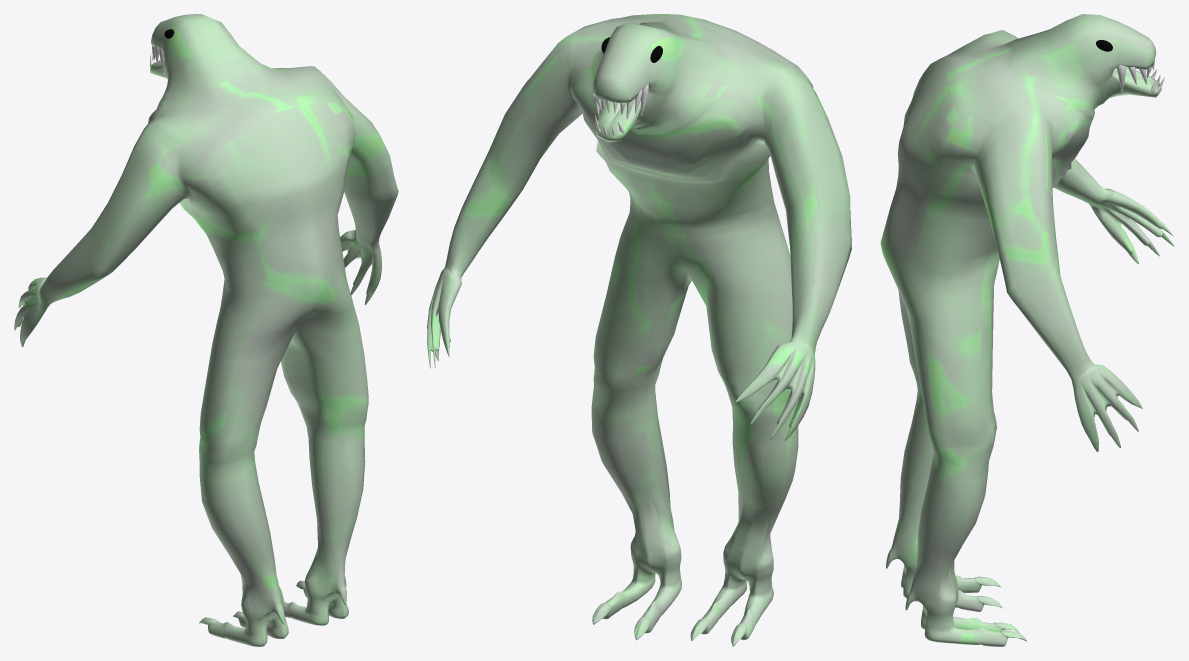
The model's file is Berserkeraranar.0063.obj.
3 renders of one model, left to right at view 1: azimuth 30°, elevation 25°; view 2: azimuth 150°, elevation 25°; view 3: azimuth 270°, elevation 25°, orthographic. The views are drawn at different scales.
Visible parts, largest first — view 1: polySurface27; view 2: polySurface27; view 3: polySurface27.
Part boxes in pixels (x1,y1,x2,y2): polySurface27: [14, 14, 398, 646]; polySurface27: [427, 14, 851, 646]; polySurface27: [880, 14, 1174, 646].
Size of the model in its own units: 14.8 by 23.66 by 10.54.
Materials: 1 (1 with a texture image).
